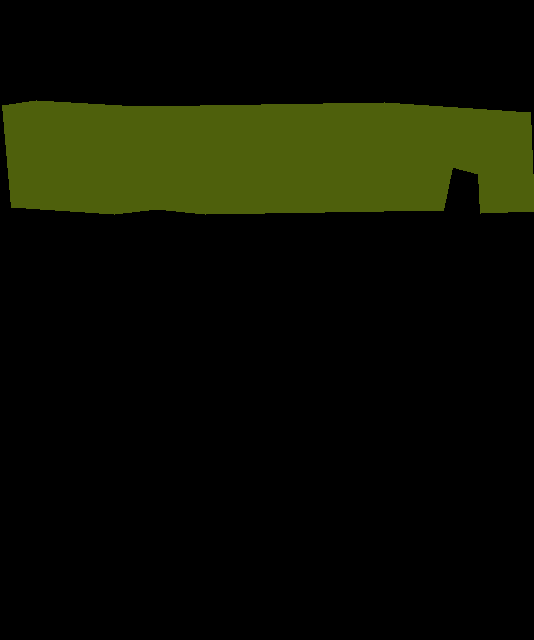Train: (2, 100, 534, 214)
